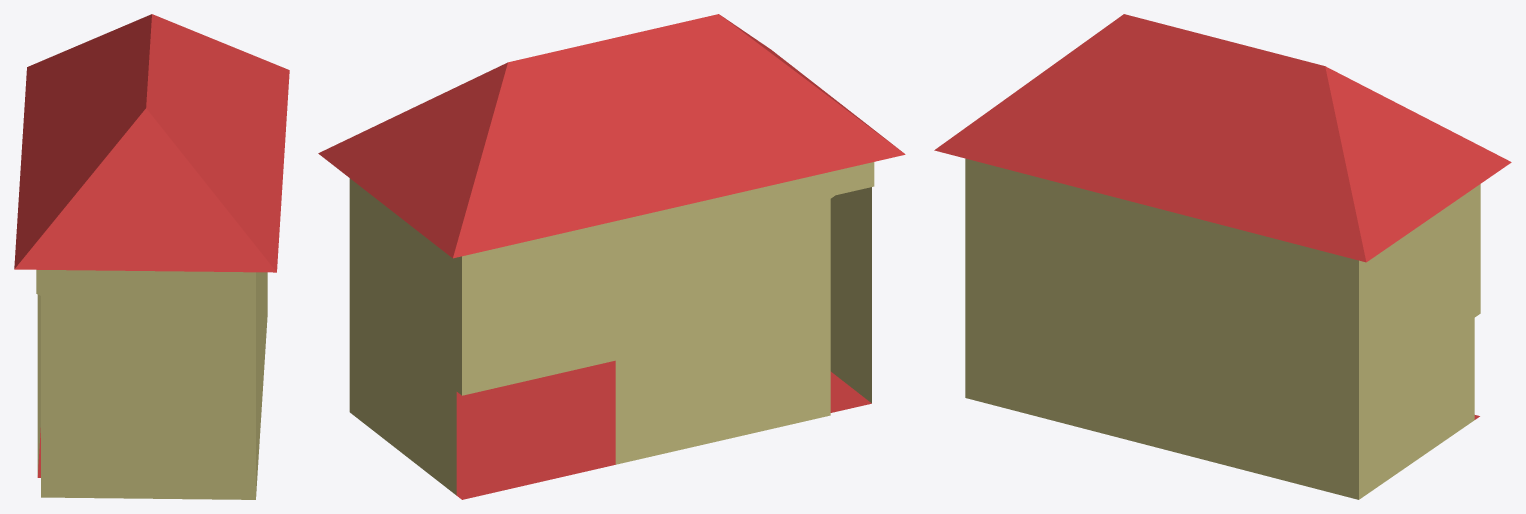
3 views of the same model, side by side, from view 1: azimuth 30°, elevation 25°; view 2: azimuth 150°, elevation 25°; view 3: azimuth 270°, elevation 25° (orthographic). The views are drawn at different scales.
Visible parts, largest first — view 1: group_5, group_3, group_4; view 2: group_5, group_3, group_6, group_4; view 3: group_5, group_3, group_4.
Part boxes in pixels (x1,y1,x2,y2): group_5: (36,270,267,499); group_3: (16,14,279,272); group_4: (14,61,289,272); group_5: (349,162,874,495); group_3: (318,14,873,258); group_6: (456,360,871,499); group_4: (456,45,905,257); group_5: (965,158,1480,499); group_3: (934,14,1511,262); group_4: (934,150,1366,261).
Bounding box in the file's own units: 32.97 × 37.92 × 26.49.
